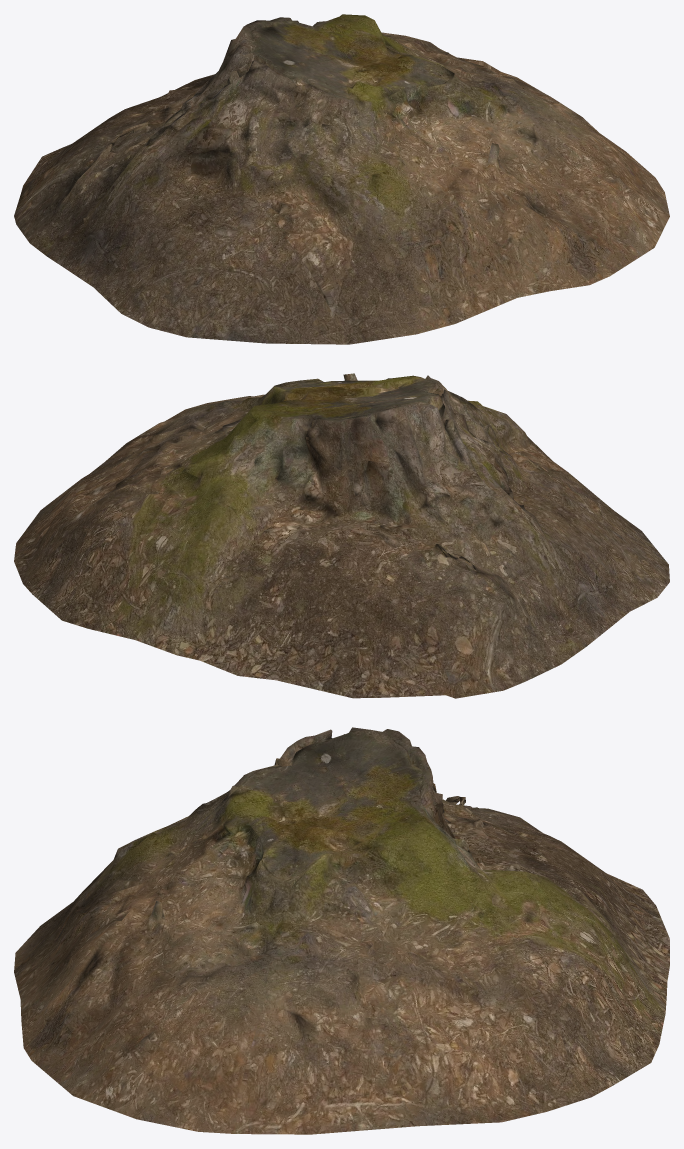
Rendered from tree_stump_02.glb.
3 renders of one model, top to bottom at view 1: azimuth 30°, elevation 25°; view 2: azimuth 150°, elevation 25°; view 3: azimuth 270°, elevation 25°, orthographic. The views are drawn at different scales.
Parts seen in each view (by area): view 1: tree_stump_02; view 2: tree_stump_02; view 3: tree_stump_02.
Boxes of the visible parts, <box> form: tree_stump_02: <box>14,14,669,344</box>; tree_stump_02: <box>14,373,669,698</box>; tree_stump_02: <box>14,727,669,1134</box>.
Size of the model in its own units: 1.52 by 0.5196 by 1.39.
Materials: 1 (1 with a texture image).
